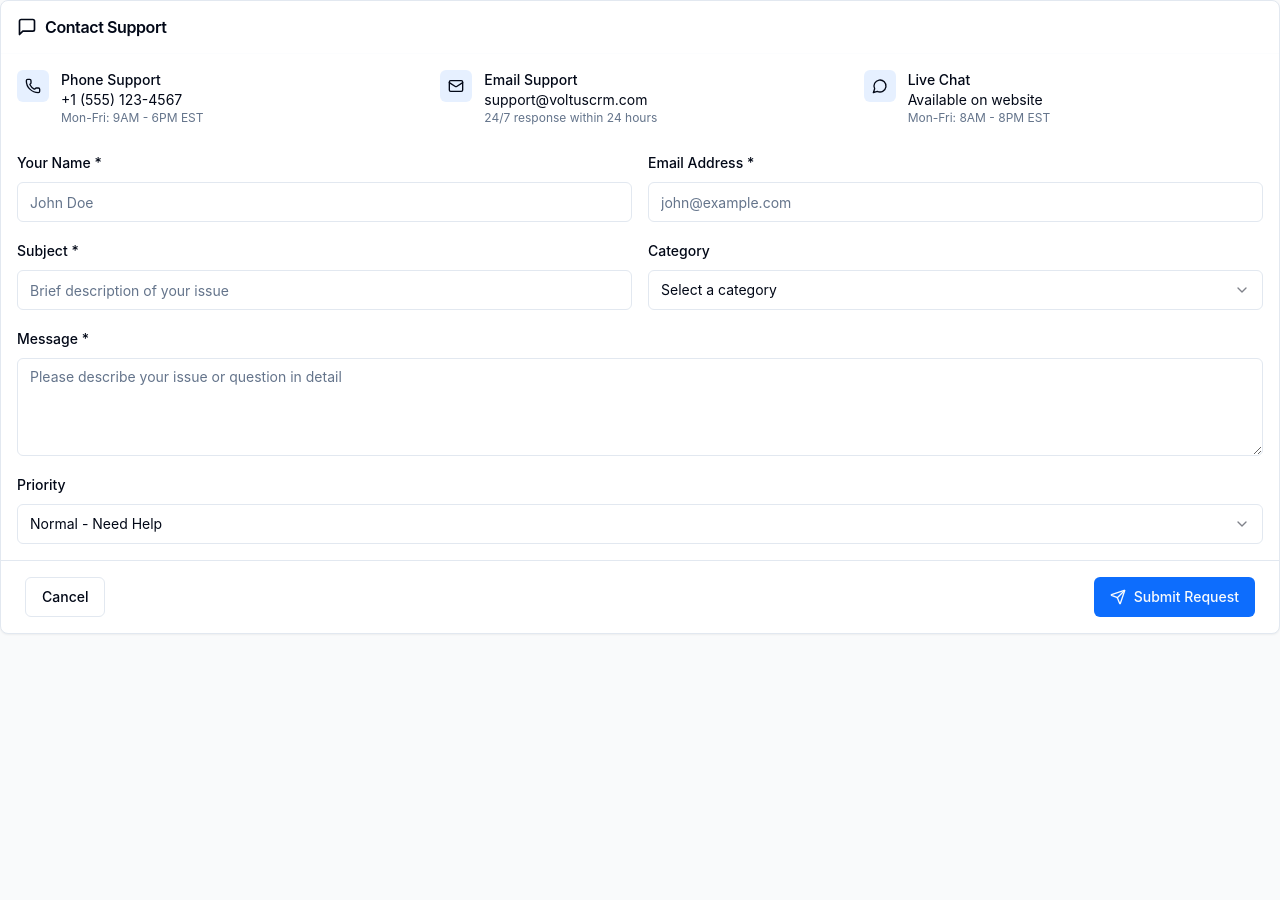
Test: ContactSupport Component › shows validation error when submitting empty form
This screenshot has width=1280, height=900.
# Click submit without filling form
Click the button "Submit Request": (1174, 597) [1094,577,1255,617]
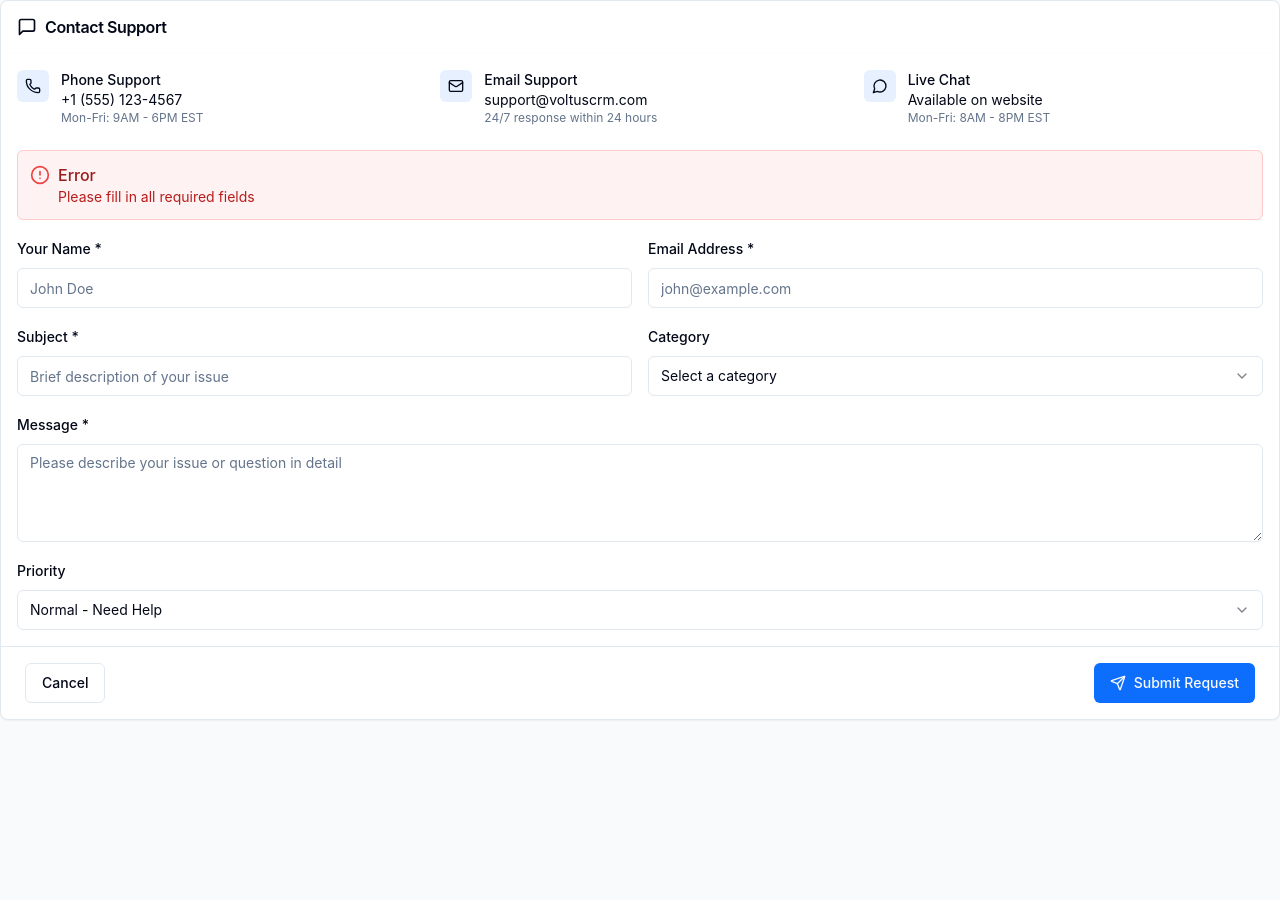
Expected: the heading "Error" is shown, [58,165,96,185]
Expected: the text "Please fill in all required fields" is shown, [58,187,255,207]
